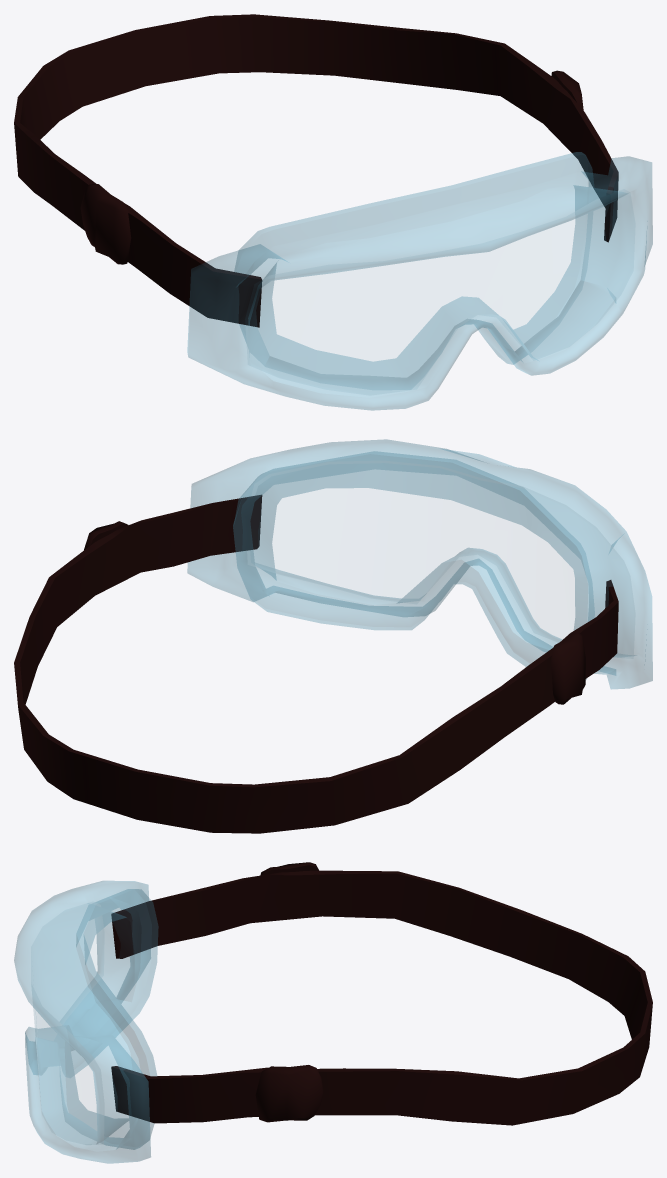
File: WJ_HuMuJin_v2.FBX
3 renders of one model, top to bottom at view 1: azimuth 30°, elevation 25°; view 2: azimuth 150°, elevation 25°; view 3: azimuth 270°, elevation 25°, orthographic. The views are drawn at different scales.
Parts seen in each view (by area): view 1: WJ_HuMuJin_v2; view 2: WJ_HuMuJin_v2; view 3: WJ_HuMuJin_v2.
Boxes of the visible parts, x1,y1,x2,y2 form: WJ_HuMuJin_v2: (14, 14, 652, 410); WJ_HuMuJin_v2: (14, 439, 652, 833); WJ_HuMuJin_v2: (14, 862, 652, 1163).
Size of the model in its own units: 16.26 by 5.98 by 20.61.
